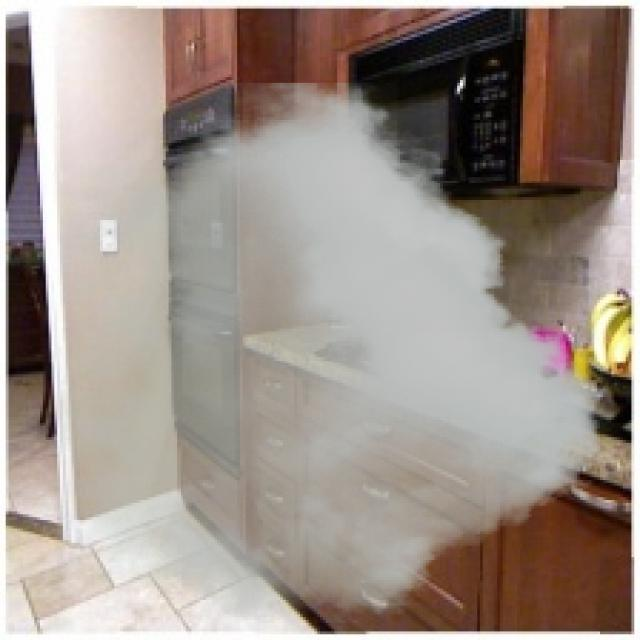smoke: (57, 83, 600, 623)
